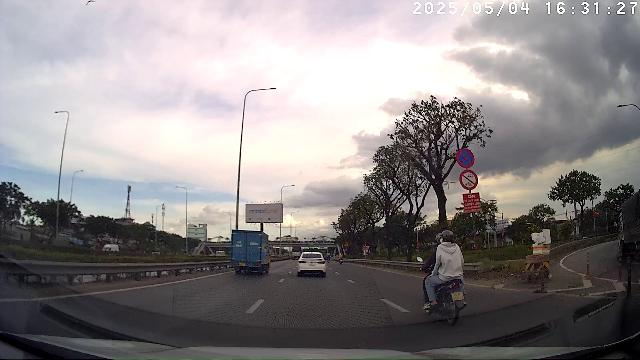130-cam-dung-va-do-xe: (456, 149, 474, 169)
